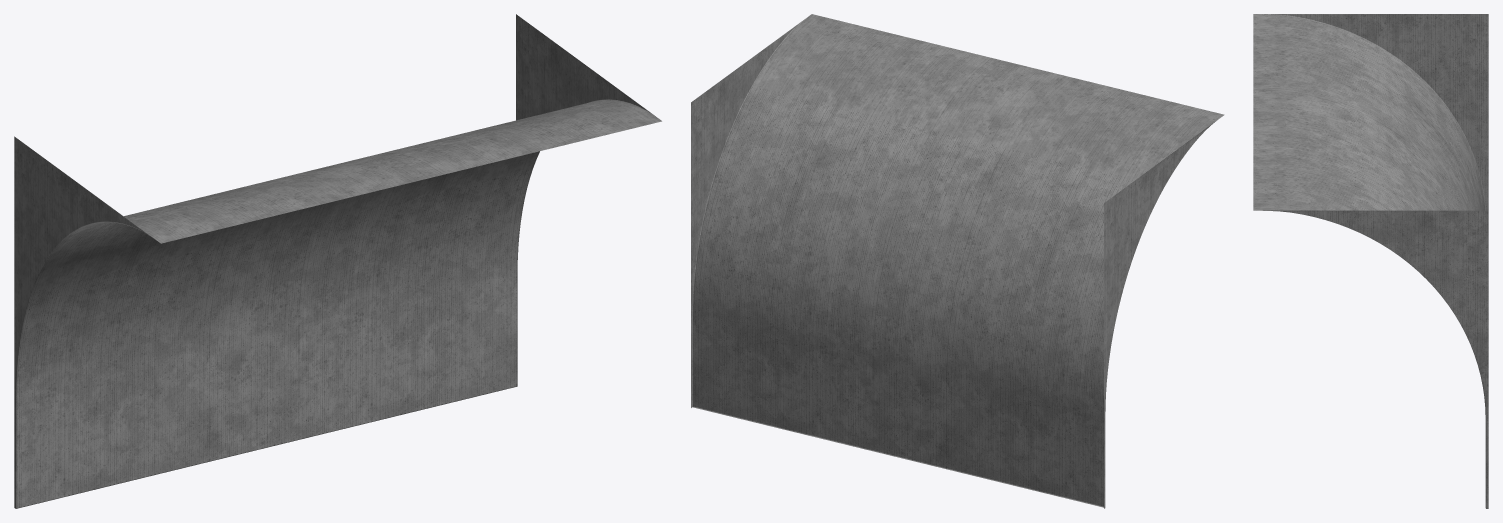
File: SM_Wall_21.fbx
The picture shows the model from 3 angles, left to right: view 1: azimuth 30°, elevation 25°; view 2: azimuth 150°, elevation 25°; view 3: azimuth 270°, elevation 25°; orthographic projection. The views are drawn at different scales.
Visible parts, largest first — view 1: SM_Wall_21; view 2: SM_Wall_21; view 3: SM_Wall_21.
Boxes of the visible parts, <box> form: SM_Wall_21: <box>14,14,661,508</box>; SM_Wall_21: <box>691,14,1224,508</box>; SM_Wall_21: <box>1253,14,1488,508</box>.
Bounding box in the file's own units: 801 × 567 × 405.
